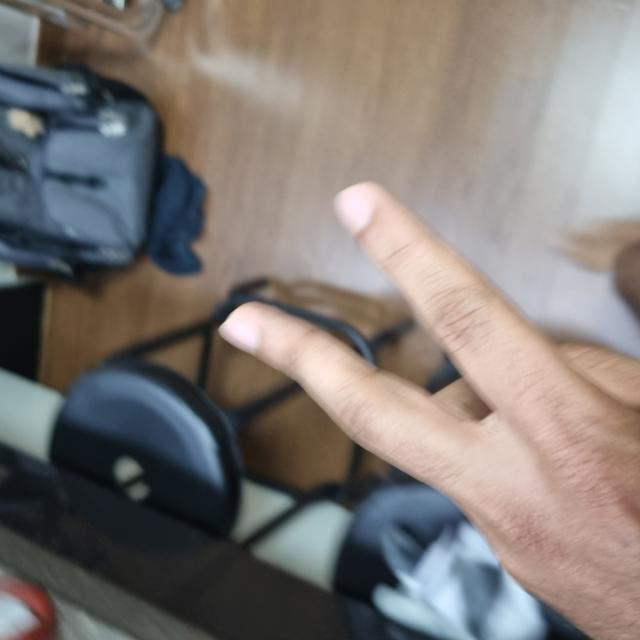Scissors: (0, 229, 458, 638)
